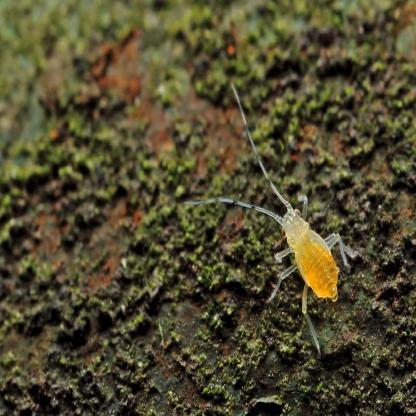aphid: (198, 90, 360, 344)
